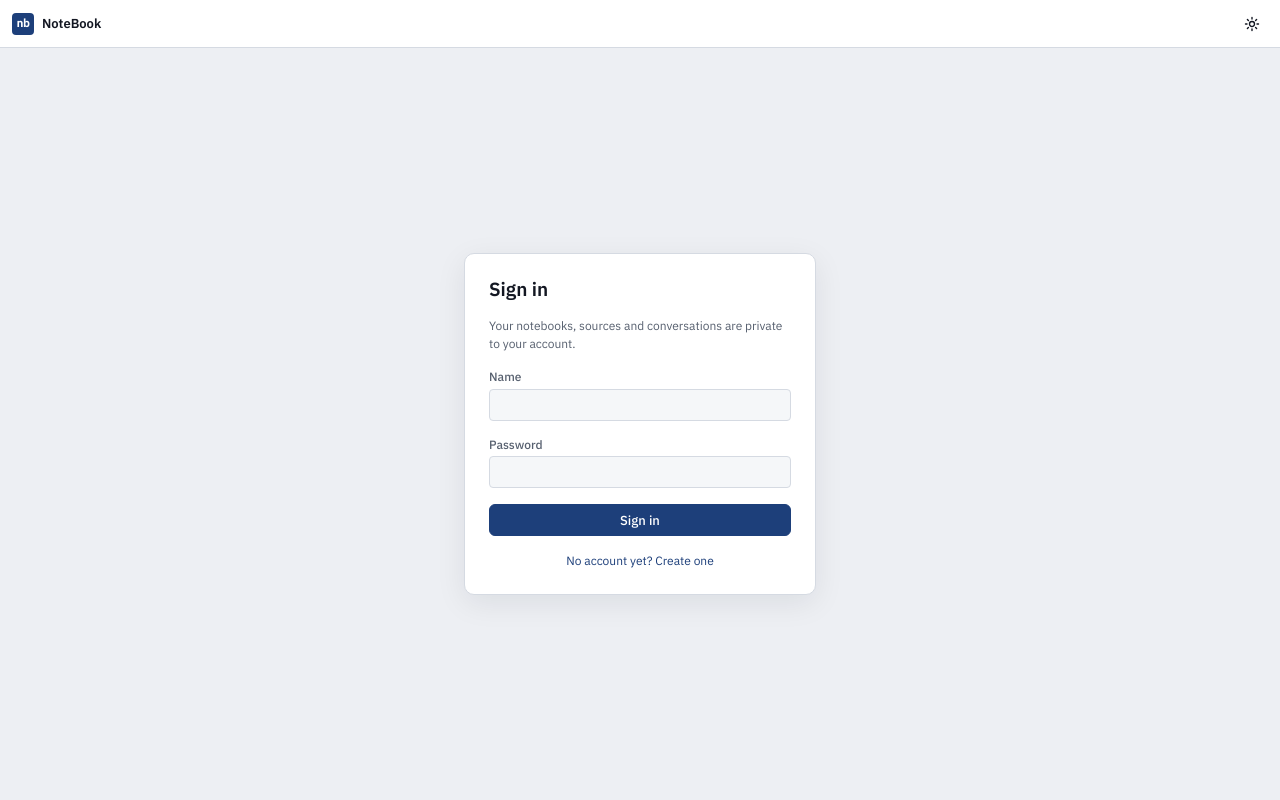
Test: signing in › sends what you typed and then shows the app
This screenshot has width=1280, height=800.
Type "ada" into the field labelled "Name".
click(640, 405); type("ada")  # box [489,389,791,421]
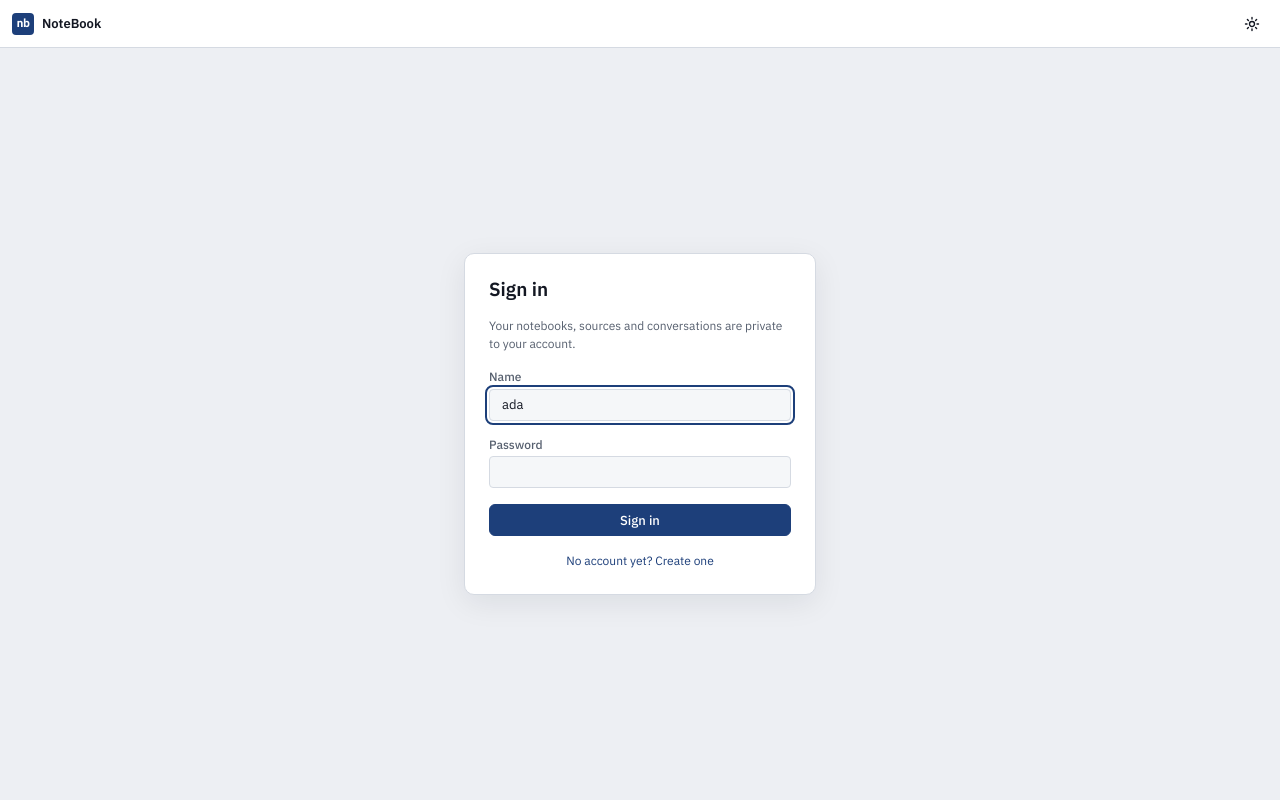
Type "a-long-enough-password" into the password field labelled "Password".
click(640, 472); type("a-long-enough-password")  # box [489,456,791,488]
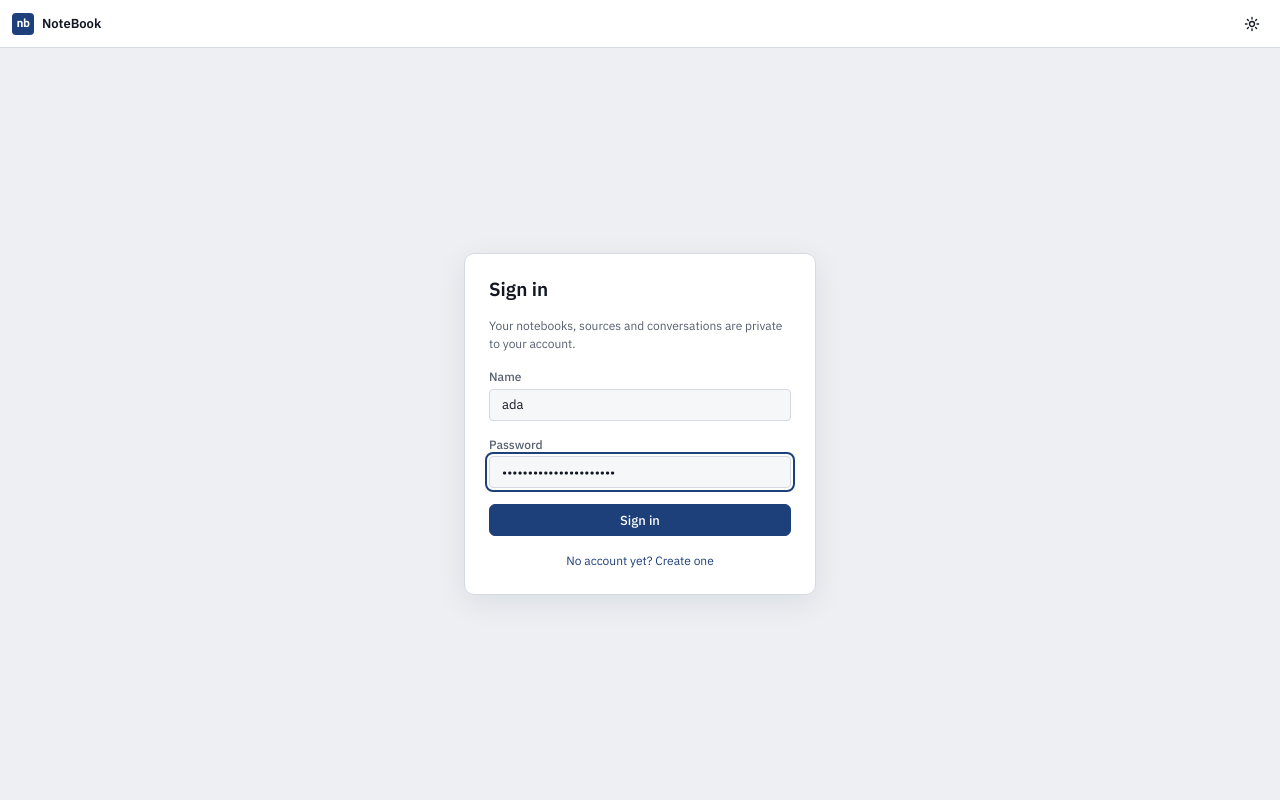
Click the button "Sign in".
click(640, 520)  # box [489,504,791,536]
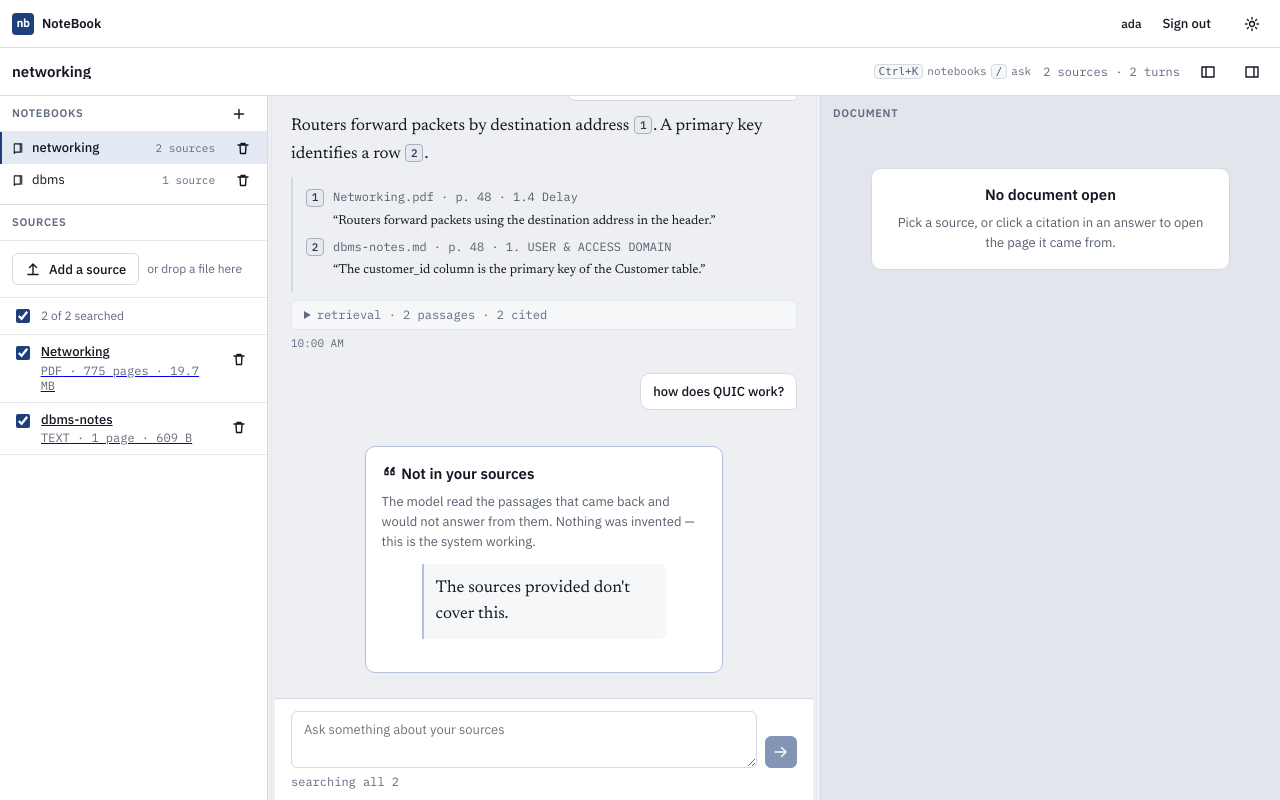
Check: the element labelled "Notebooks" is shown, box [0,96,267,204]
